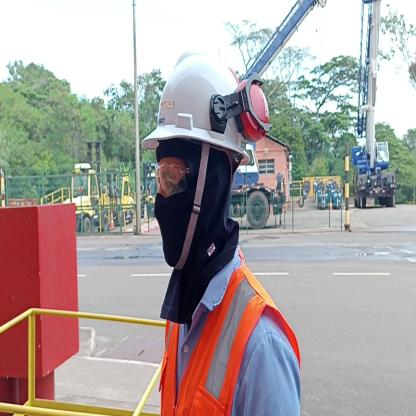C_eletrica: (157, 144, 237, 275)
Capacete: (154, 46, 254, 144)
colete: (165, 280, 293, 416)
